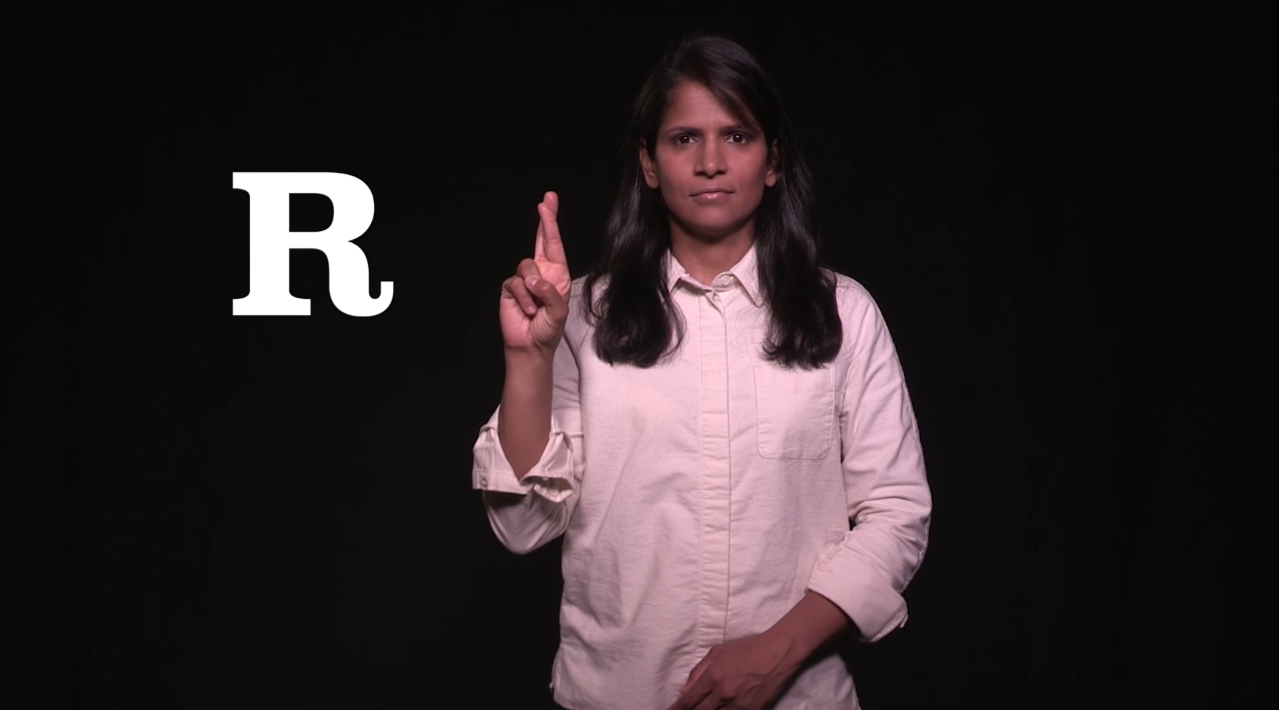r: (481, 168, 597, 379)
